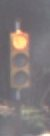Red: (9, 29, 34, 94)
